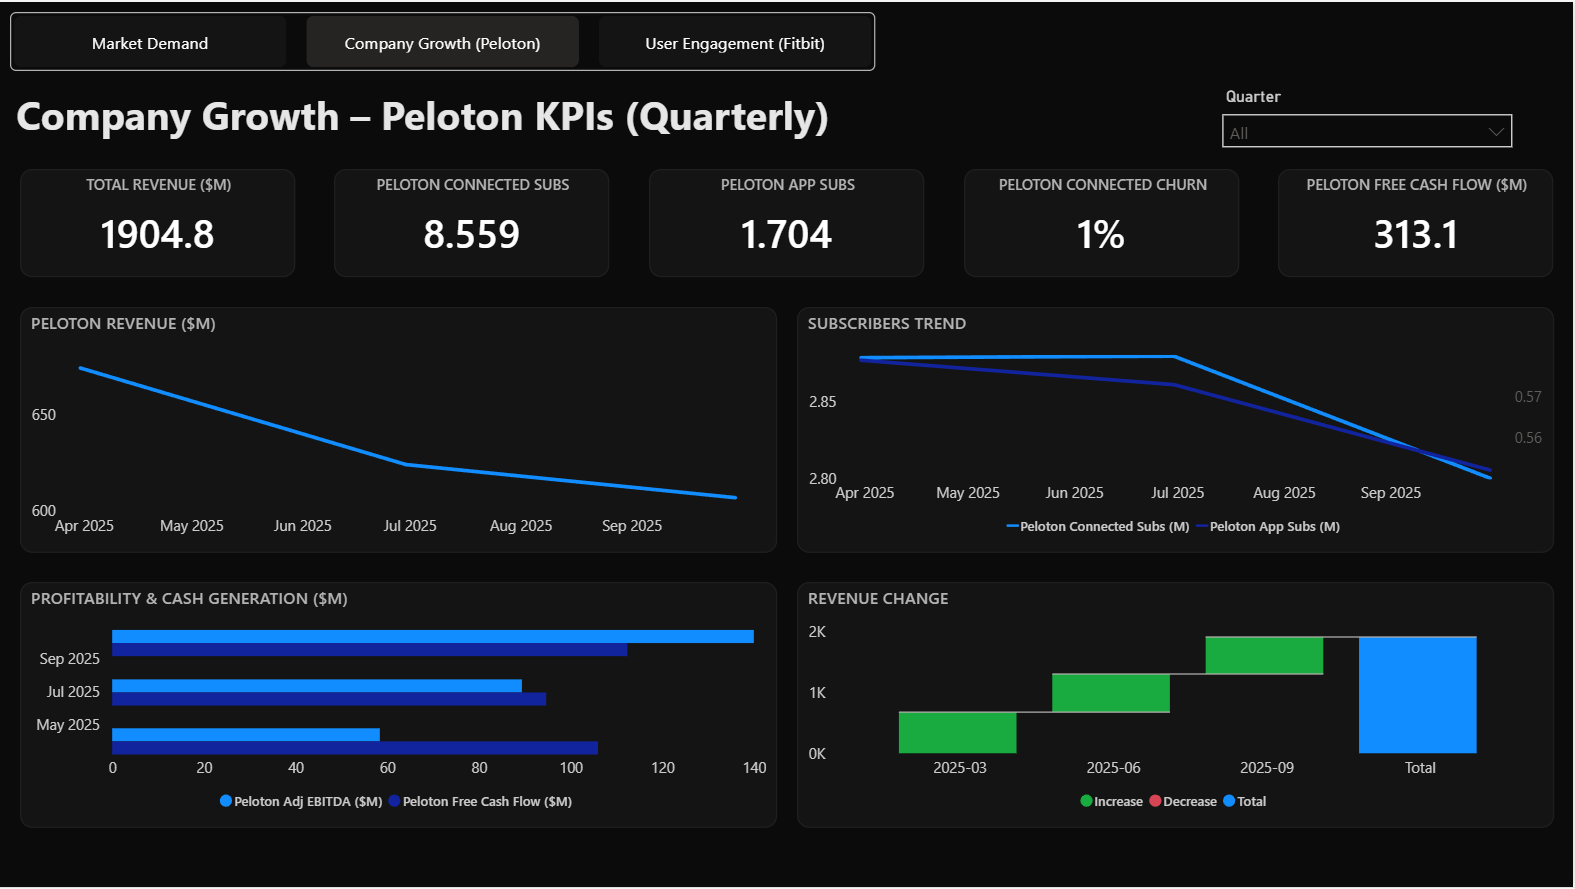

This screenshot's page, from the dashboard's own definition file:
{"tool":"powerbi","page":{"name":"Company Growth (Peloton)","canvas":[1280,720],"ordinal":1},"visuals":[{"type":"pageNavigator","box":[8,8,704,48],"z":0},{"type":"textbox","box":[8,64,784,56],"z":1000},{"type":"card","title":"TOTAL REVENUE ($M)","fields":{"Values":["Date.Peloton Revenue ($M)"]},"box":[16,136,224,88],"z":2000},{"type":"card","title":"PELOTON CONNECTED SUBS","fields":{"Values":["Date.Peloton Connected Subs (M)"]},"box":[272,136,224,88],"z":3000},{"type":"card","title":"PELOTON APP SUBS","fields":{"Values":["Date.Peloton App Subs (M)"]},"box":[528,136,224,88],"z":4000},{"type":"card","title":"PELOTON CONNECTED CHURN","fields":{"Values":["Date.Peloton Connected Churn (%)"]},"box":[784,136,224,88],"z":5000},{"type":"card","title":"PELOTON FREE CASH FLOW ($M)","fields":{"Values":["Date.Peloton Free Cash Flow ($M)"]},"box":[1040,136,224,88],"z":6000},{"type":"lineChart","title":"PELOTON REVENUE ($M)","fields":{"Category":["Date.Date"],"Y":["Date.Peloton Revenue ($M)"]},"box":[16,248,616,200],"z":7000},{"type":"lineChart","title":"SUBSCRIBERS TREND ","fields":{"Category":["Date.Date"],"Y":["Date.Peloton Connected Subs (M)"],"Y2":["Date.Peloton App Subs (M)"]},"box":[648,248,616,200],"z":8000},{"type":"slicer","fields":{"Values":["peloton_quarterly_metrics.quarter"]},"box":[984,64,256,64],"z":9000},{"type":"clusteredBarChart","title":"PROFITABILITY & CASH GENERATION ($M)","fields":{"Category":["Date.Date"],"Y":["Date.Peloton Adj EBITDA ($M)","Date.Peloton Free Cash Flow ($M)"]},"box":[16,472,616,200],"z":10000},{"type":"waterfallChart","title":"REVENUE CHANGE","fields":{"Category":["Date.YearMonth"],"Y":["Date.Peloton Revenue ($M)"]},"box":[648,472,616,200],"z":11000}]}

Visuals, with their boxes in screenshot pixels (x1, y1, x2, y2), scaled from the page's 1280x720 canvas onto the 1575x889 screenshot:
pageNavigator: rect(10, 10, 876, 69)
textbox: rect(10, 79, 975, 148)
"TOTAL REVENUE ($M)" card: rect(20, 168, 295, 277)
"PELOTON CONNECTED SUBS" card: rect(335, 168, 610, 277)
"PELOTON APP SUBS" card: rect(650, 168, 925, 277)
"PELOTON CONNECTED CHURN" card: rect(965, 168, 1240, 277)
"PELOTON FREE CASH FLOW ($M)" card: rect(1280, 168, 1555, 277)
"PELOTON REVENUE ($M)" lineChart: rect(20, 306, 778, 553)
"SUBSCRIBERS TREND " lineChart: rect(797, 306, 1555, 553)
slicer - peloton_quarterly_metrics.quarter: rect(1211, 79, 1526, 158)
"PROFITABILITY & CASH GENERATION ($M)" clusteredBarChart: rect(20, 583, 778, 830)
"REVENUE CHANGE" waterfallChart: rect(797, 583, 1555, 830)
